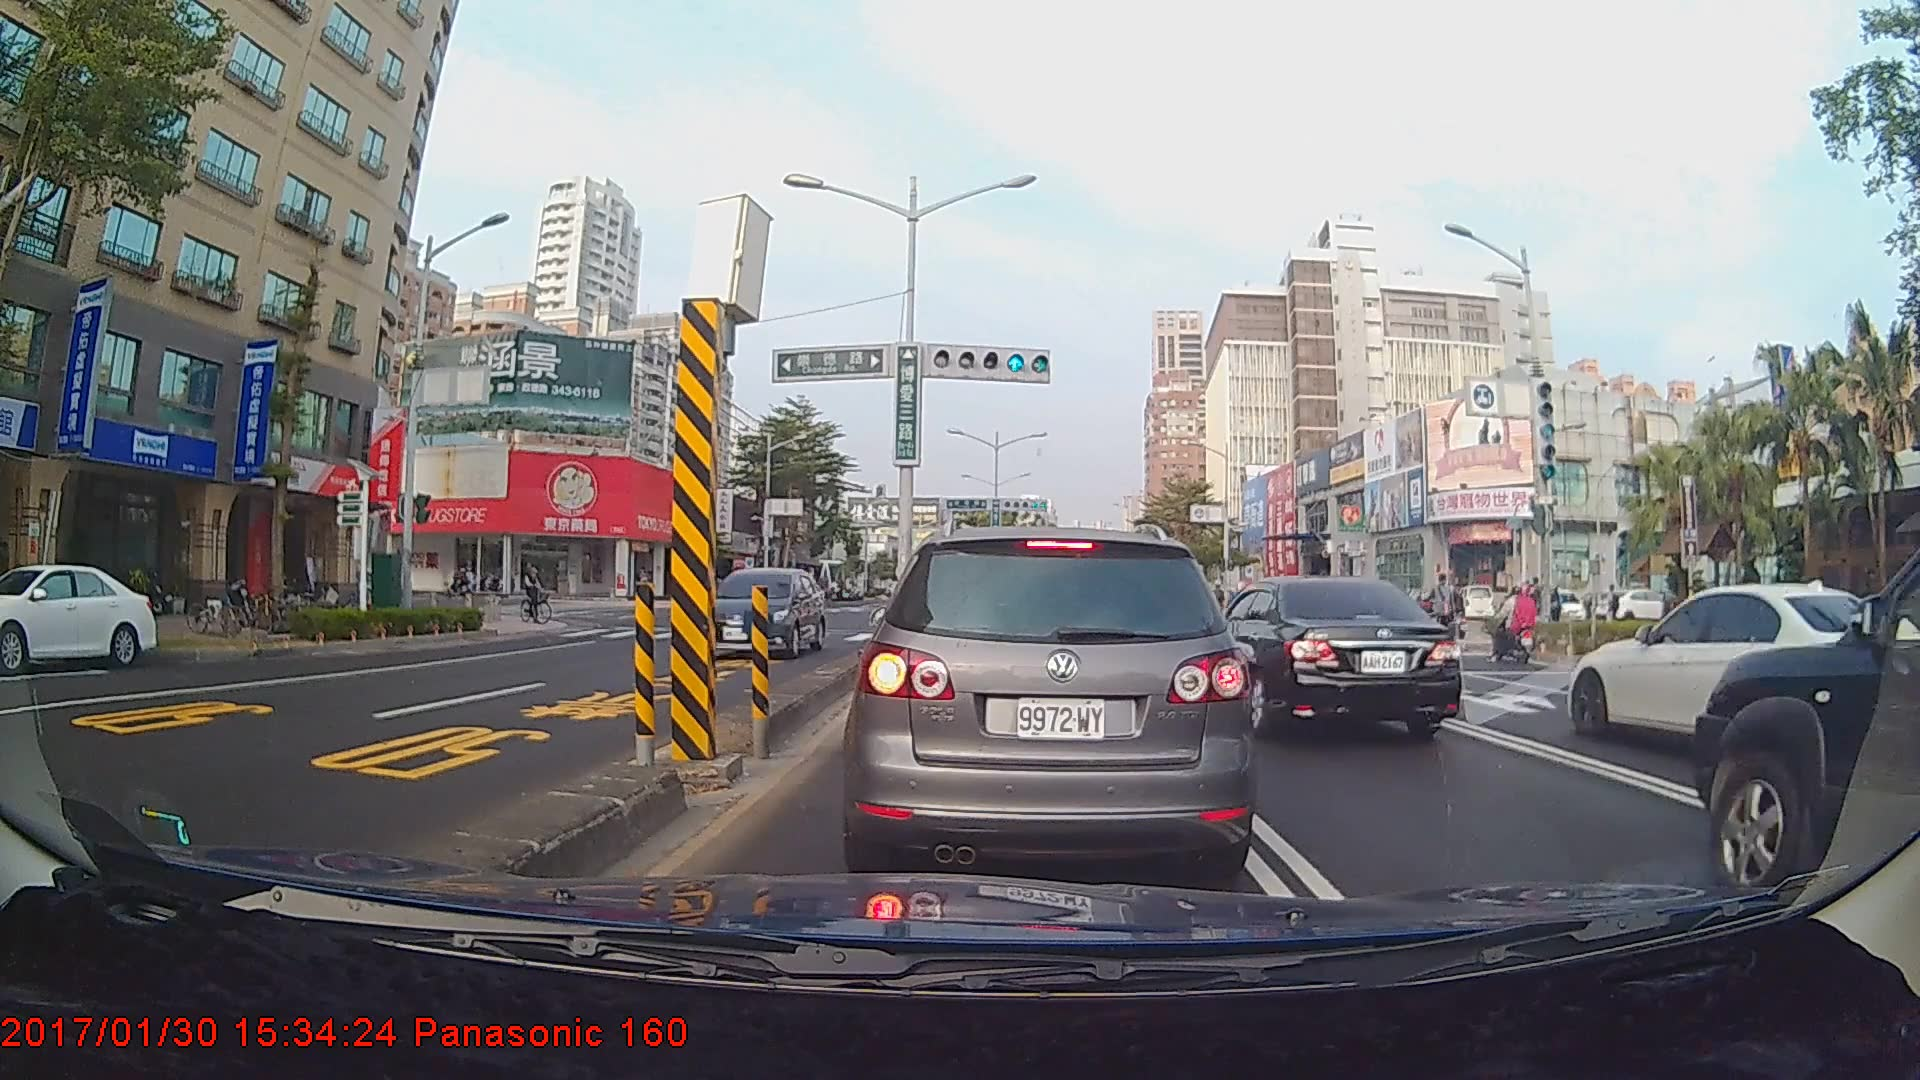pedestrian: (1601, 581, 1621, 640)
rider: (1485, 582, 1548, 668), (518, 559, 561, 629), (447, 563, 485, 603)
vehicle: (852, 524, 1251, 883), (1564, 582, 1908, 760), (1176, 573, 1464, 743), (0, 561, 157, 671), (697, 564, 826, 660)
